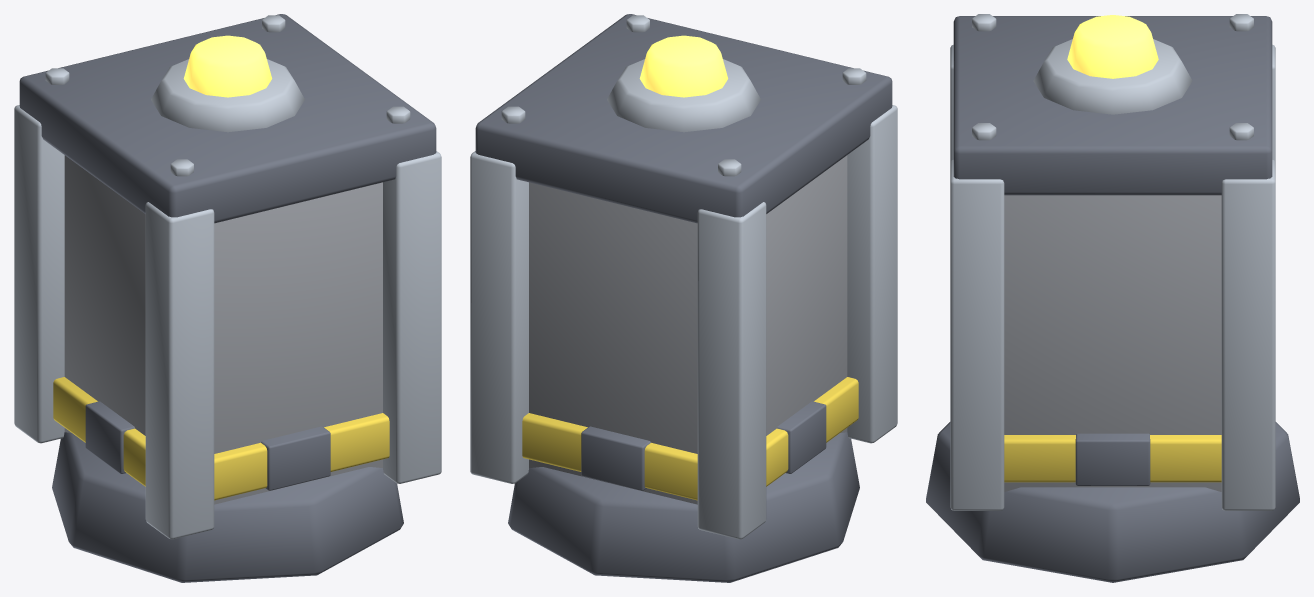
Rendered from foundry_pillar.glb.
The picture shows the model from 3 angles, left to right: view 1: azimuth 30°, elevation 25°; view 2: azimuth 150°, elevation 25°; view 3: azimuth 270°, elevation 25°; orthographic projection. The views are drawn at different scales.
Visible parts, largest first — view 1: FoundryBunkerPillar; view 2: FoundryBunkerPillar; view 3: FoundryBunkerPillar.
Part boxes in pixels (x1,y1,x2,y2): FoundryBunkerPillar: (14,14,441,582); FoundryBunkerPillar: (470,14,897,582); FoundryBunkerPillar: (926,14,1299,582).
Bounding box in the file's own units: 1.1 × 1.55 × 1.1.
